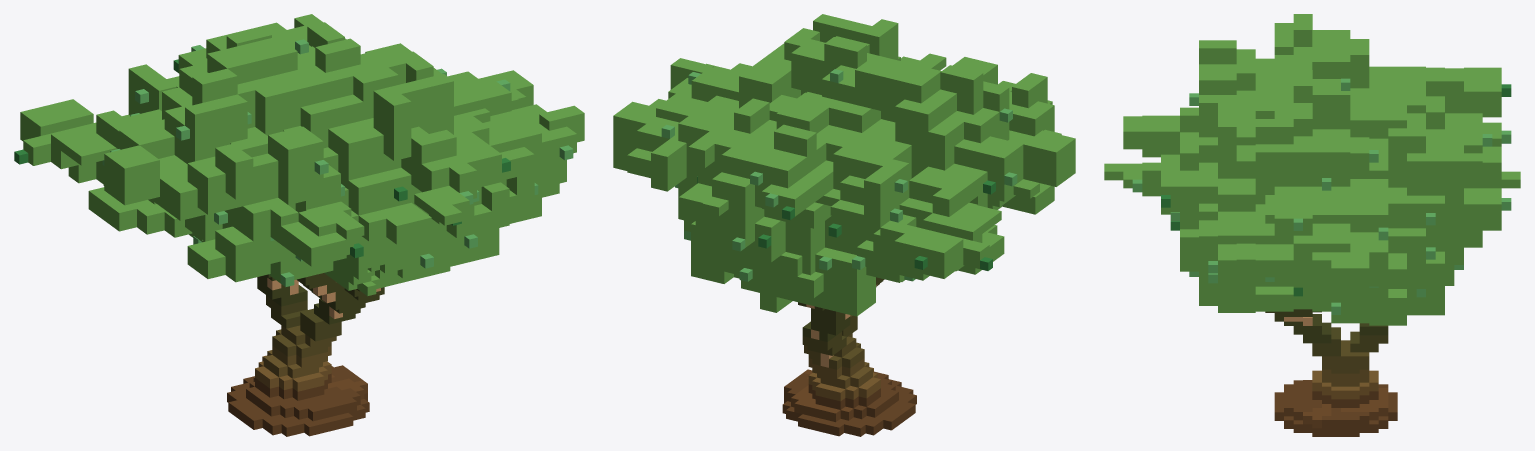
Rendered from 2_0 acer.obj.
The picture shows the model from 3 angles, left to right: view 1: azimuth 30°, elevation 25°; view 2: azimuth 150°, elevation 25°; view 3: azimuth 270°, elevation 25°; orthographic projection. The views are drawn at different scales.
Size of the model in its own units: 5.2 by 4 by 4.4.
Materials: 1 (1 with a texture image).
